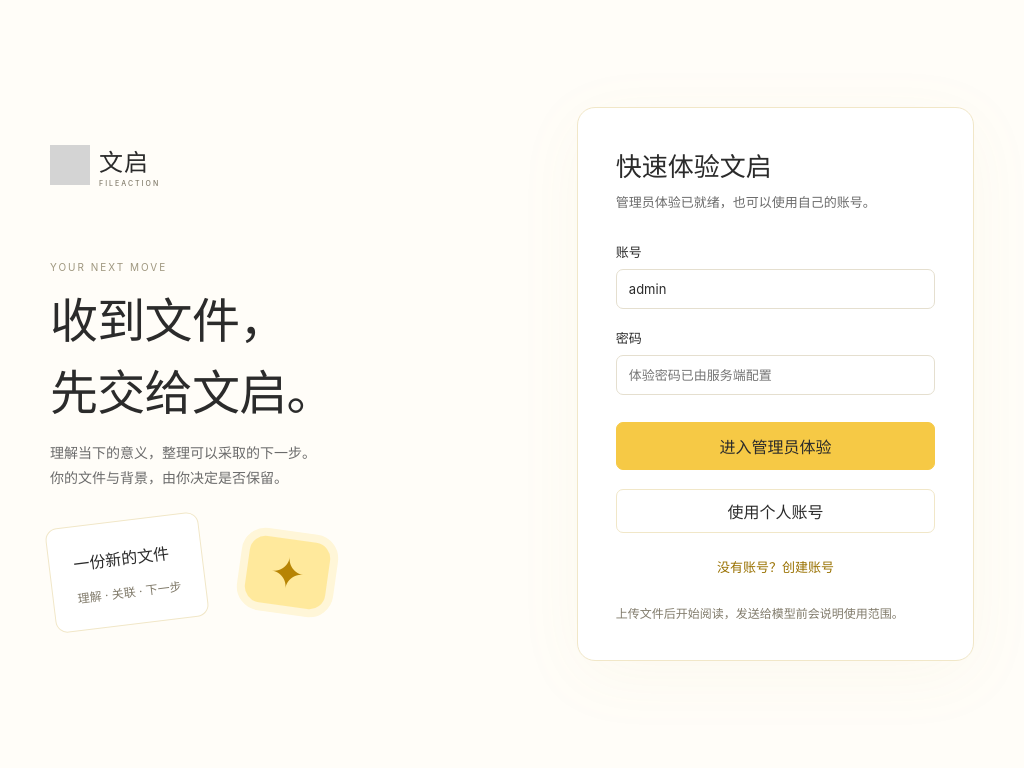
Test: 切换个人账号后输入为空且不再使用体验登录
Click the button "使用个人账号". click: (775, 511)
box: [616,489,935,533]
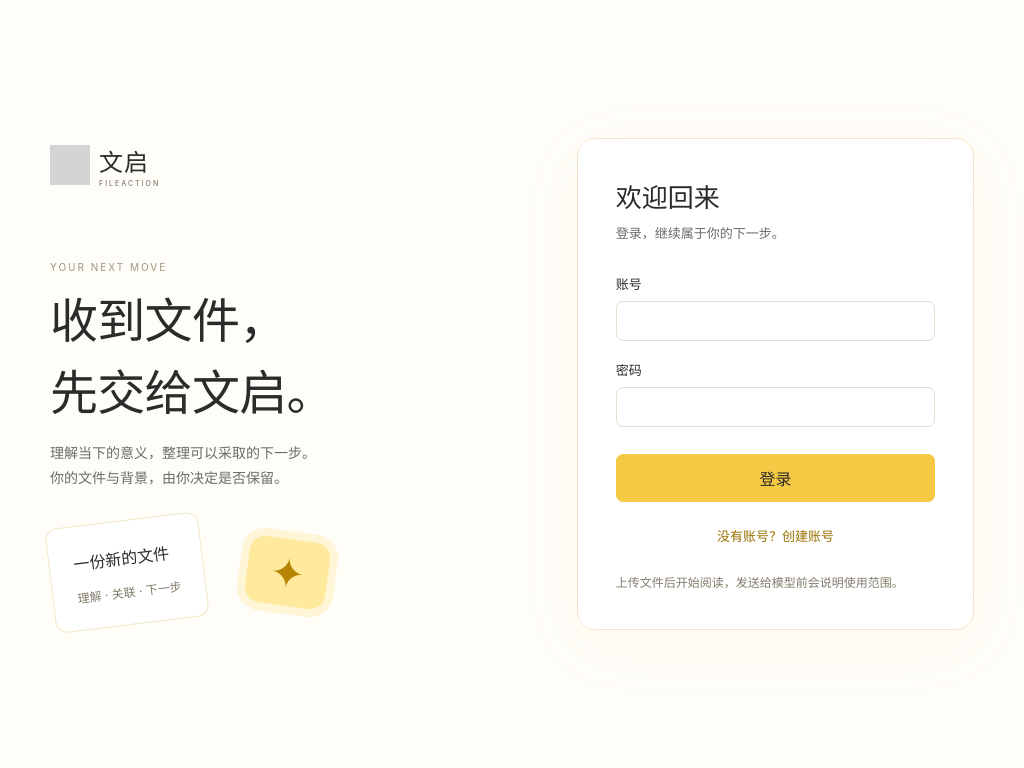
Now the field labelled "账号" is empty, box [616,300,935,340]
Now the password field labelled "密码" is enabled, box [616,386,935,426]
Now the button "登录" is shown, box [616,454,935,502]
